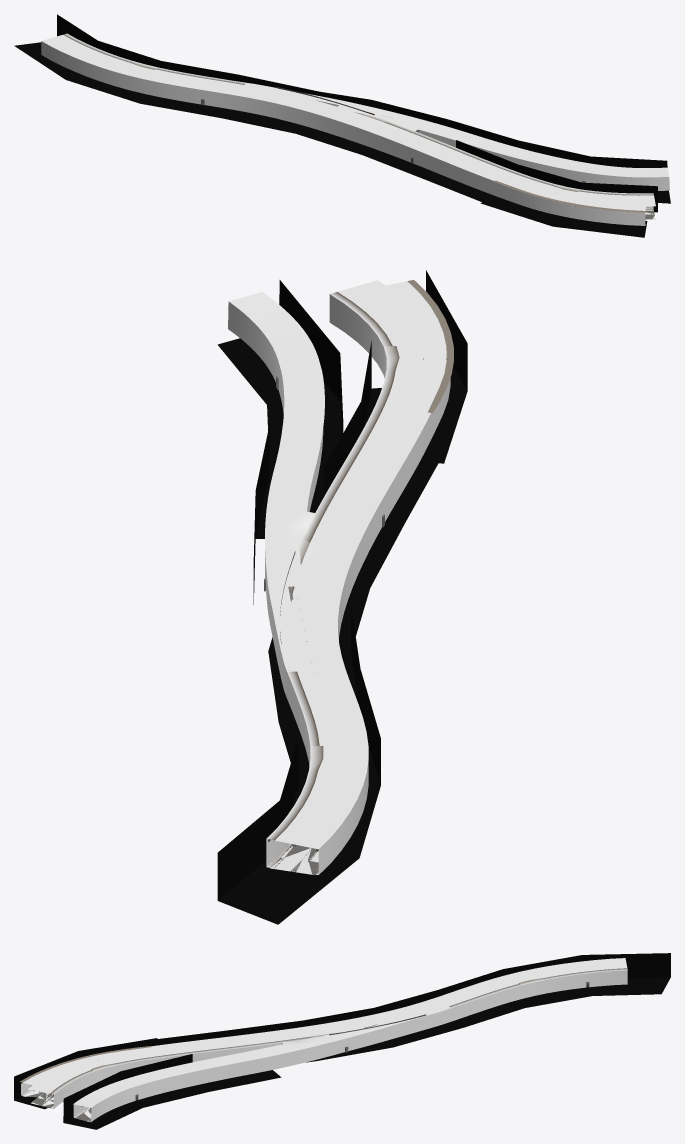
The model's file is tunnel_city6.dae.
The picture shows the model from 3 angles, top to bottom: view 1: azimuth 30°, elevation 25°; view 2: azimuth 150°, elevation 25°; view 3: azimuth 270°, elevation 25°; orthographic projection. The views are drawn at different scales.
Visible parts, largest first — view 1: tunnel_city6_a3000, tunnel_city6_a6000; view 2: tunnel_city6_a3000, tunnel_city6_a6000; view 3: tunnel_city6_a3000, tunnel_city6_a6000.
Part boxes in pixels (x1=…): tunnel_city6_a3000: x1=41, y1=33, x2=669, y2=225; tunnel_city6_a6000: x1=14, y1=14, x2=670, y2=237; tunnel_city6_a3000: x1=228, y1=280, x2=450, y2=875; tunnel_city6_a6000: x1=217, y1=270, x2=467, y2=924; tunnel_city6_a3000: x1=21, y1=958, x2=627, y2=1121; tunnel_city6_a6000: x1=14, y1=953, x2=670, y2=1129.
Bounding box in the file's own units: 147 × 263 × 11.73.
